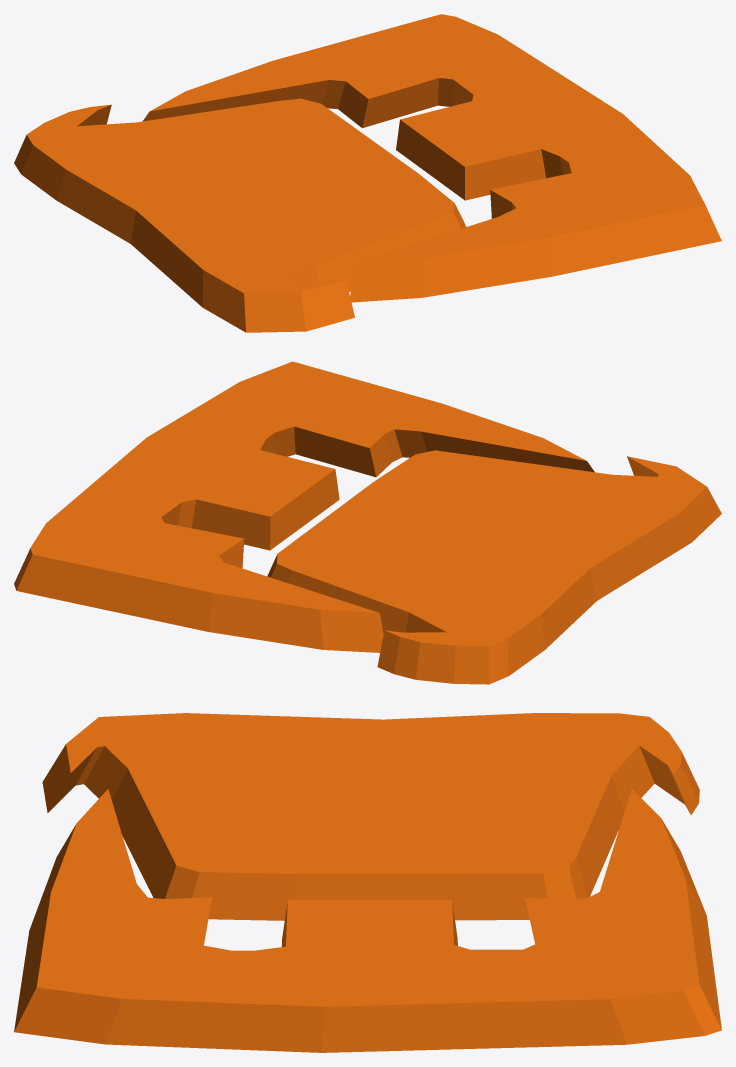
The model's file is Bag.FBX.
3 renders of one model, top to bottom at view 1: azimuth 30°, elevation 25°; view 2: azimuth 150°, elevation 25°; view 3: azimuth 270°, elevation 25°, orthographic. The views are drawn at different scales.
Visible parts, largest first — view 1: Line001; view 2: Line001; view 3: Line001.
Part boxes in pixels (bbox=[...]): Line001: bbox=[14, 14, 721, 332]; Line001: bbox=[14, 361, 721, 684]; Line001: bbox=[14, 713, 721, 1052].
Size of the model in its own units: 5.43 by 0.334 by 5.34.
